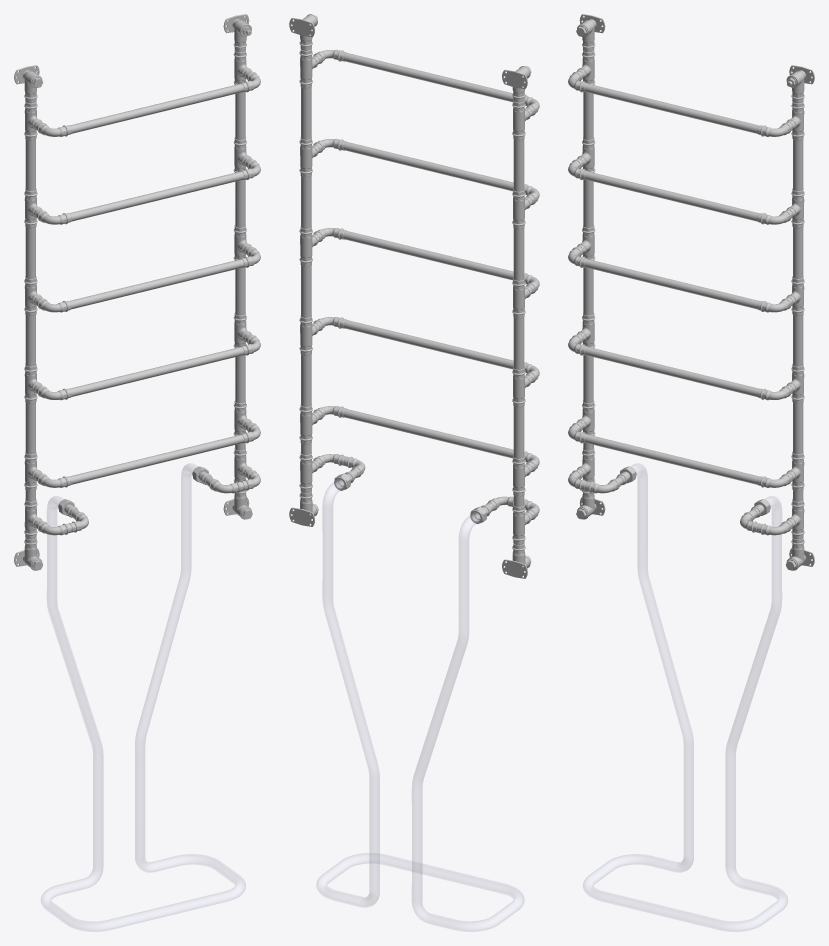
The picture shows the model from 3 angles, left to right: view 1: azimuth 30°, elevation 25°; view 2: azimuth 150°, elevation 25°; view 3: azimuth 330°, elevation 25°; orthographic projection.
Visible parts, largest first — view 1: Rib.3, Pad.1, Pad.027, Pad.007, Pad.017, Pad.037, Pad.015, Pad.045, Pad.035, Pad.025, Pad.033, Pad.043 (+2 smaller); view 2: Rib.3, Pad.017, Pad.027, Pad.037, Pad.007, Pad.1, Pad.015, Pad.025, Pad.035, Pad.045, Pad.013, Pad.023 (+18 smaller); view 3: Rib.3, Pad.1, Pad.007, Pad.017, Pad.027, Pad.037, Pad.013, Pad.043, Pad.033, Pad.023, Pad.035, Pad.045 (+2 smaller).
Part boxes in pixels (bbox=[...]): Rib.3: bbox=[41, 463, 245, 931]; Pad.1: bbox=[69, 83, 244, 133]; Pad.027: bbox=[69, 346, 244, 396]; Pad.007: bbox=[69, 171, 244, 221]; Pad.017: bbox=[69, 259, 244, 309]; Pad.037: bbox=[69, 434, 244, 484]; Pad.015: bbox=[25, 139, 35, 191]; Pad.045: bbox=[25, 402, 35, 454]; Pad.035: bbox=[25, 315, 35, 366]; Pad.025: bbox=[25, 227, 35, 278]; Pad.033: bbox=[235, 267, 245, 315]; Pad.043: bbox=[235, 355, 245, 403]; Rib.3: bbox=[316, 479, 524, 931]; Pad.017: bbox=[343, 230, 513, 280]; Pad.027: bbox=[343, 320, 513, 369]; Pad.037: bbox=[343, 409, 513, 458]; Pad.007: bbox=[343, 141, 513, 191]; Pad.1: bbox=[343, 52, 513, 102]; Pad.015: bbox=[513, 139, 524, 191]; Pad.025: bbox=[513, 228, 524, 280]; Pad.035: bbox=[513, 317, 524, 369]; Pad.045: bbox=[513, 406, 524, 458]; Pad.013: bbox=[301, 87, 311, 139]; Pad.023: bbox=[301, 176, 311, 228]; Rib.3: bbox=[583, 463, 787, 931]; Pad.1: bbox=[584, 83, 759, 133]; Pad.007: bbox=[584, 171, 759, 221]; Pad.017: bbox=[584, 259, 759, 309]; Pad.027: bbox=[584, 347, 759, 396]; Pad.037: bbox=[584, 434, 759, 484]; Pad.013: bbox=[793, 139, 803, 191]; Pad.043: bbox=[793, 402, 803, 454]; Pad.033: bbox=[793, 315, 803, 366]; Pad.023: bbox=[793, 227, 803, 278]; Pad.035: bbox=[583, 267, 593, 315]; Pad.045: bbox=[583, 355, 593, 403].
Bounding box in the file's own units: 0.5598 × 1.93 × 0.222.
